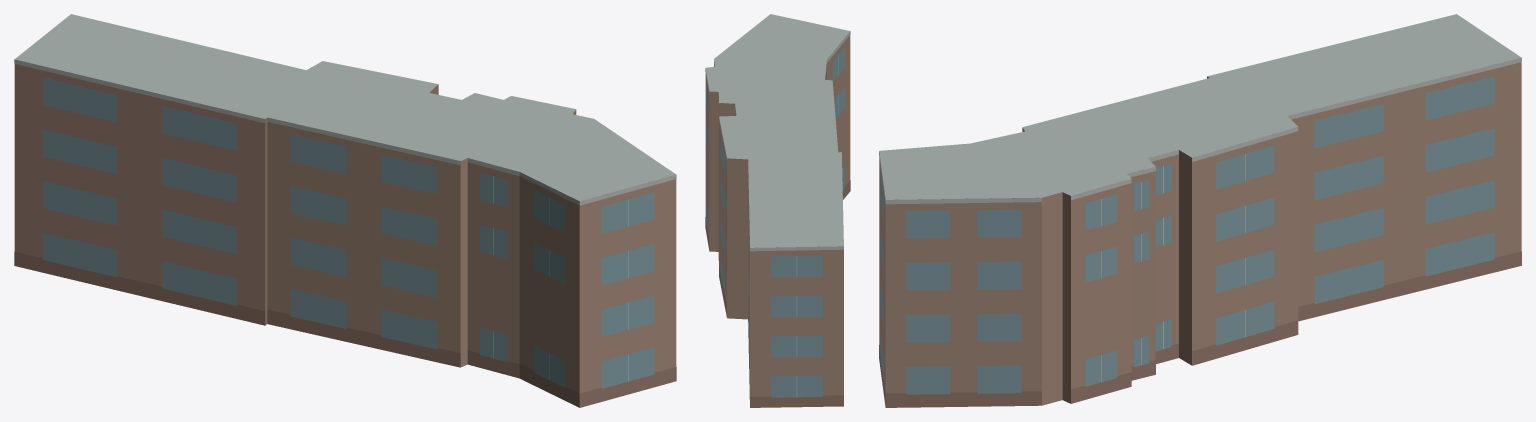
File: survey-upis-32972894.glb
The picture shows the model from 3 angles, left to right: view 1: azimuth 30°, elevation 25°; view 2: azimuth 150°, elevation 25°; view 3: azimuth 270°, elevation 25°; orthographic projection. The views are drawn at different scales.
Visible parts, largest first — view 1: survey-upis-32972894.tmp; view 2: survey-upis-32972894.tmp; view 3: survey-upis-32972894.tmp.
Part boxes in pixels (x1,y1,x2,y2): survey-upis-32972894.tmp: (14, 14, 676, 407); survey-upis-32972894.tmp: (705, 14, 850, 407); survey-upis-32972894.tmp: (879, 14, 1521, 407).
Size of the model in its own units: 22.25 by 11.6 by 32.49.
